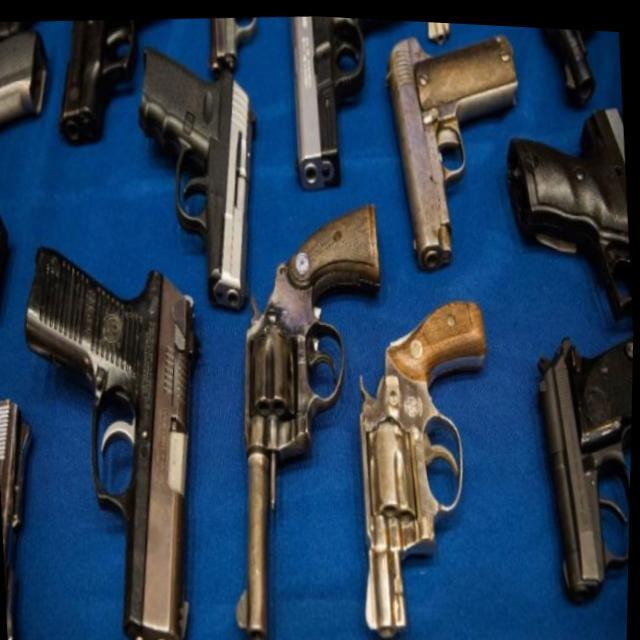weapon: (208, 189, 408, 640), (13, 231, 222, 640), (344, 286, 508, 640), (379, 20, 532, 271), (138, 28, 264, 323), (500, 93, 638, 324), (530, 321, 635, 598), (282, 12, 423, 190), (50, 12, 186, 147), (0, 393, 49, 640), (0, 25, 58, 204), (526, 22, 621, 102), (206, 11, 290, 78), (0, 223, 15, 320)
